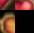heart: (15, 0, 34, 10), (0, 0, 15, 10)
sword: (15, 10, 34, 33)
